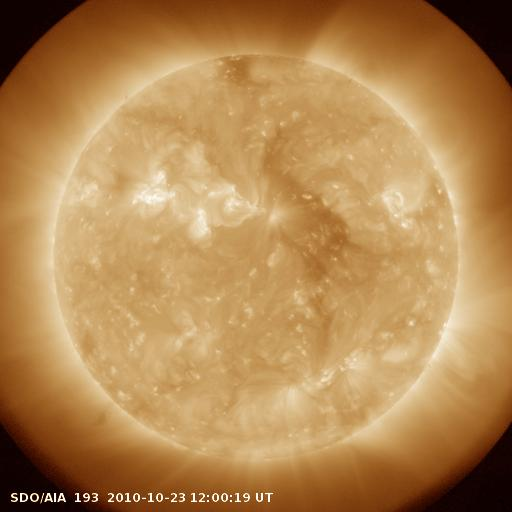coronal_hole: (275, 173, 362, 305)
